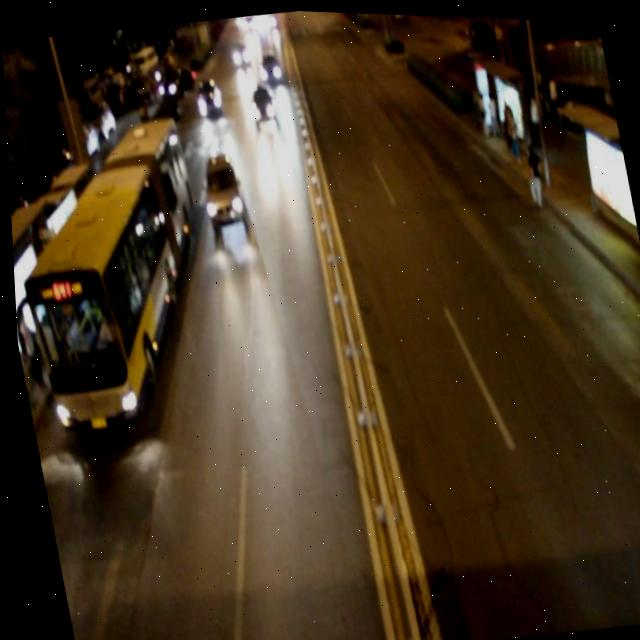car: (245, 81, 277, 126), (191, 74, 224, 117), (253, 47, 283, 86)
truck: (194, 147, 247, 225)
van: (4, 106, 222, 434)
